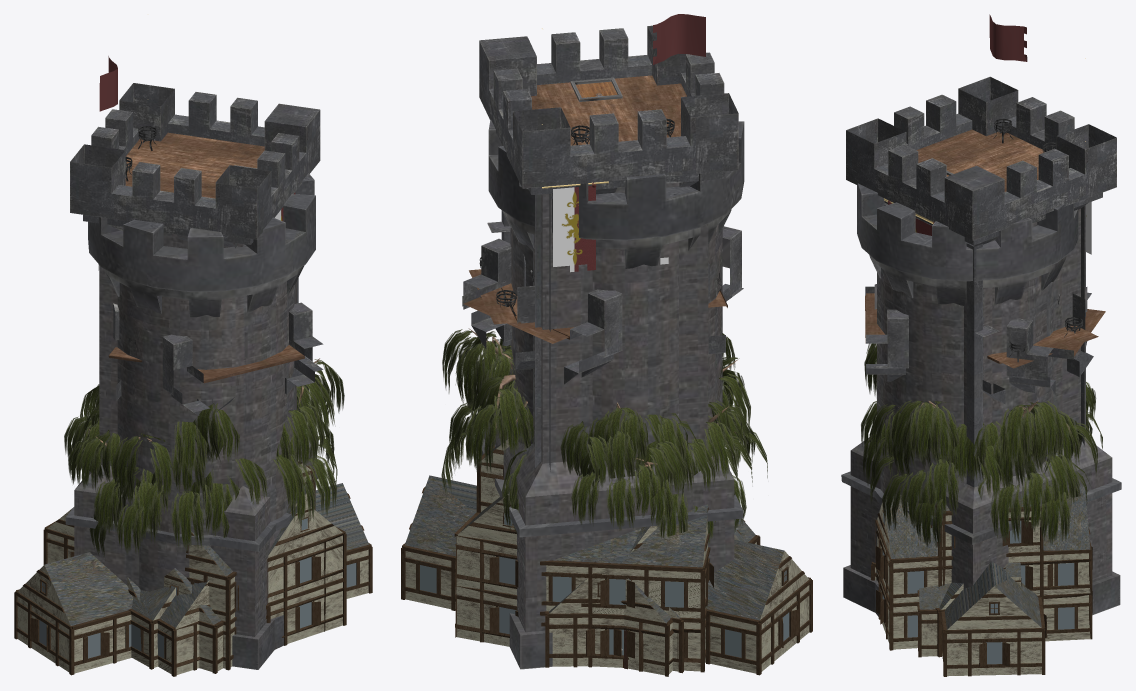
Rendered from cityparts.glb.
The picture shows the model from 3 angles, left to right: view 1: azimuth 30°, elevation 25°; view 2: azimuth 150°, elevation 25°; view 3: azimuth 270°, elevation 25°; orthographic projection. The views are drawn at different scales.
Parts seen in each view (by area): view 1: tower, gatetower, bigtree, house11, house10, house7, house8, house5, house9; view 2: gatetower, tower, bigtree, house11, house8, house7, house5, house10; view 3: gatetower, tower, bigtree, house11, house7, house10, house8.
Part boxes in pixels (<box>): tower: <box>88,173,323,649</box>; gatetower: <box>65,56,324,669</box>; bigtree: <box>64,358,344,558</box>; house11: <box>14,483,372,675</box>; house10: <box>267,460,346,645</box>; house7: <box>157,500,315,676</box>; house8: <box>43,507,226,673</box>; house5: <box>185,531,238,670</box>; house9: <box>129,587,175,669</box>; gatetower: <box>469,14,743,669</box>; tower: <box>462,119,744,469</box>; bigtree: <box>441,328,767,543</box>; house11: <box>401,475,812,675</box>; house8: <box>540,504,713,672</box>; house7: <box>454,438,760,676</box>; house5: <box>545,573,621,667</box>; house10: <box>478,513,683,673</box>; gatetower: <box>841,14,1121,615</box>; tower: <box>857,183,1105,616</box>; bigtree: <box>861,343,1102,549</box>; house11: <box>917,561,1047,676</box>; house7: <box>885,464,1092,641</box>; house10: <box>875,495,1077,650</box>; house8: <box>935,582,963,657</box>.
Bounding box in the file's own units: 29.33 × 49.02 × 22.78.
30 materials, 27 textured.
